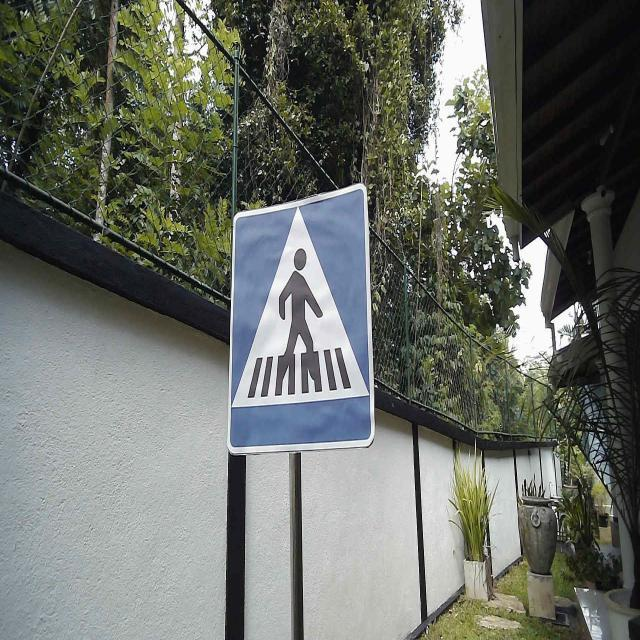crosswalk_sign: (225, 180, 378, 458)
